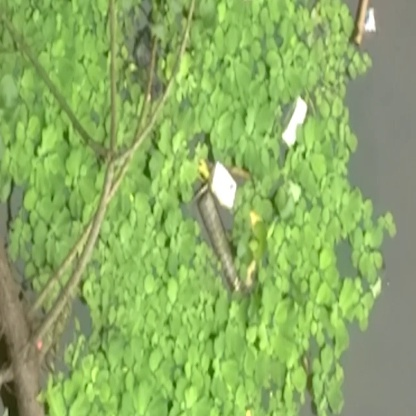branch: (21, 1, 188, 349)
